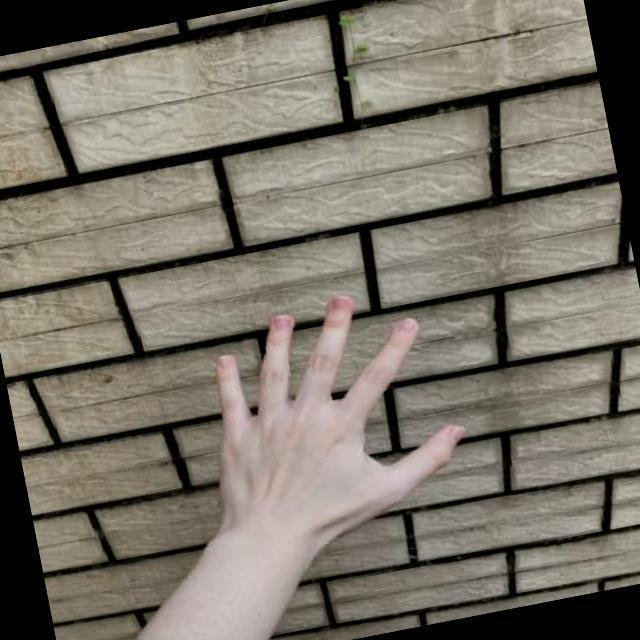hand: (182, 270, 489, 570)
